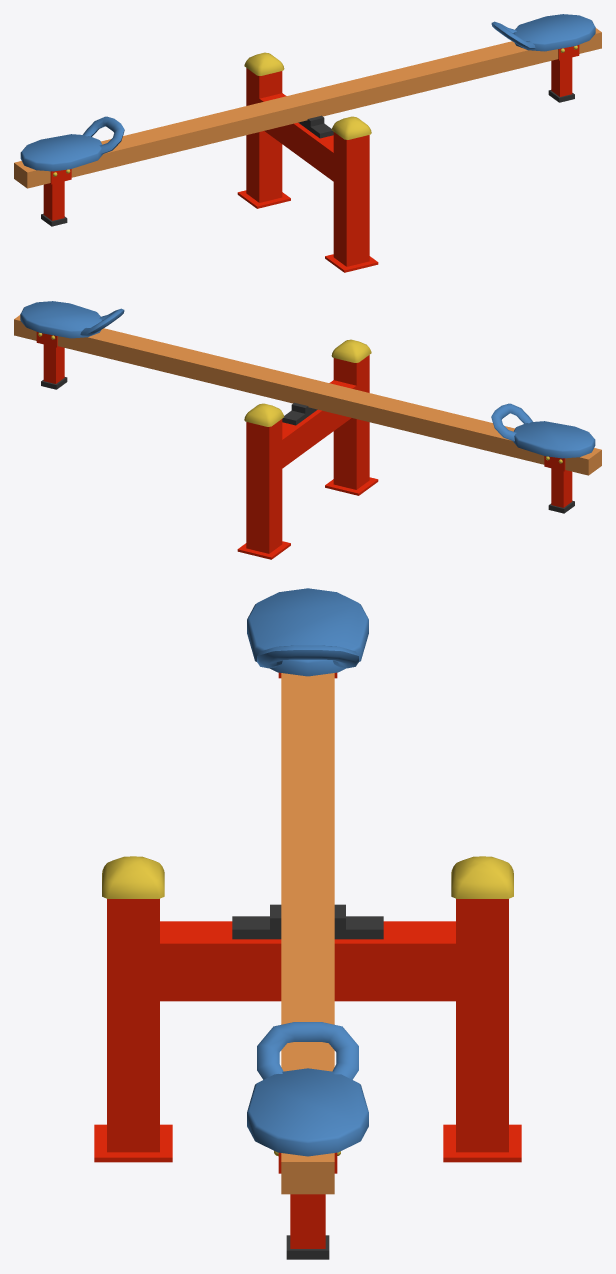
The model's file is Attraction_6.fbx.
3 views of the same model, one above another, from view 1: azimuth 30°, elevation 25°; view 2: azimuth 150°, elevation 25°; view 3: azimuth 270°, elevation 25° (orthographic). The views are drawn at different scales.
Parts seen in each view (by area): view 1: Attraction_6; view 2: Attraction_6; view 3: Attraction_6.
Boxes of the visible parts, x1,y1,x2,y2 form: Attraction_6: [14, 14, 601, 272]; Attraction_6: [14, 301, 601, 559]; Attraction_6: [94, 588, 521, 1259].
Size of the model in its own units: 390 by 101 by 126.
